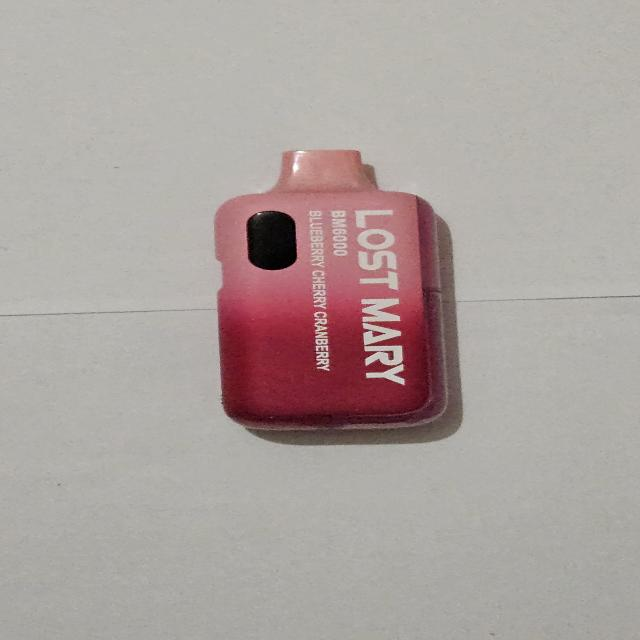Hazard: (212, 148, 451, 432)
